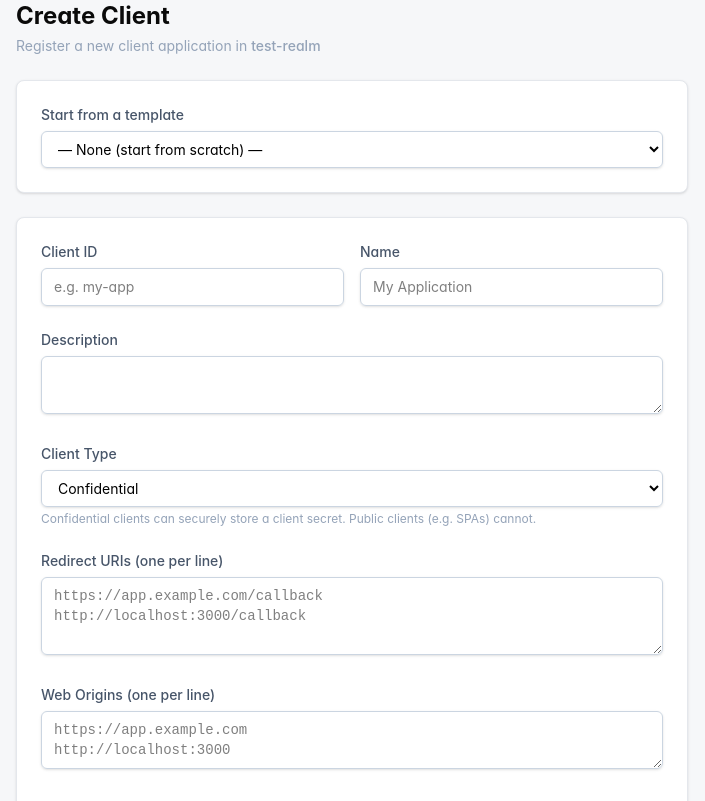
Scenario: ClientCreatePage › shows the client secret after a successful create
Type "new-client" into the field labelled "Client ID" at [192, 287], box x1=41 y1=268 x2=344 y2=306
(page scrolled)
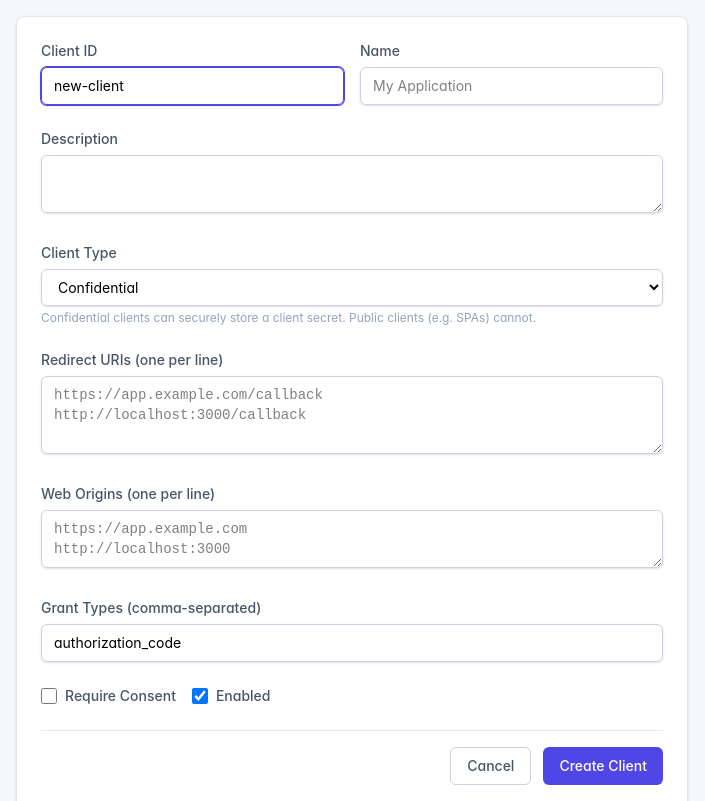
Click the button "Create Client" at [603, 766], box x1=543 y1=747 x2=663 y2=785
(page scrolled)
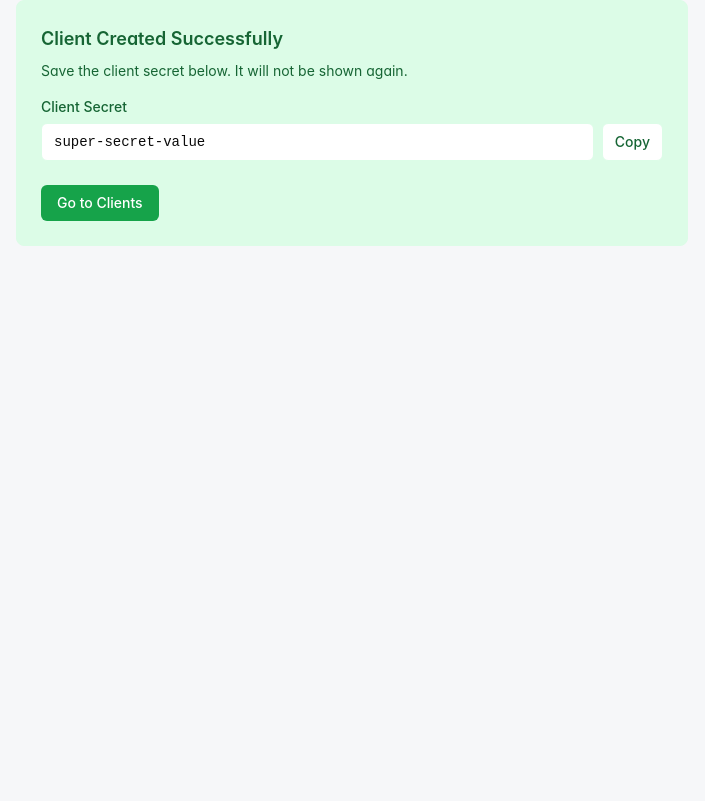
Result: the text "super-secret-value" is shown at x1=41 y1=123 x2=594 y2=161
Result: the heading "Client Created Successfully" is shown at x1=41 y1=28 x2=283 y2=49
